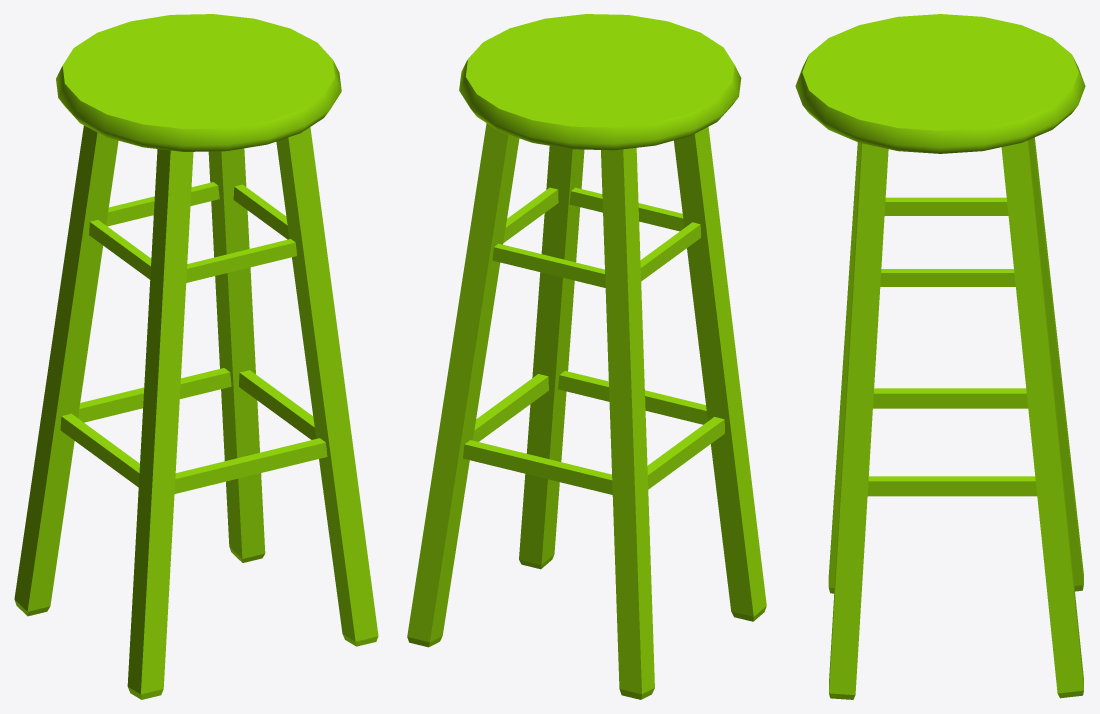
File: Stool.fbx
3 views of the same model, side by side, from view 1: azimuth 30°, elevation 25°; view 2: azimuth 150°, elevation 25°; view 3: azimuth 270°, elevation 25° (orthographic). The views are drawn at different scales.
Visible parts, largest first — view 1: Stool; view 2: Stool; view 3: Stool.
Part boxes in pixels (x1,y1,x2,y2): Stool: [14, 14, 378, 699]; Stool: [407, 14, 766, 699]; Stool: [795, 14, 1085, 699].
Size of the model in its own units: 44.55 by 96.22 by 44.55.
